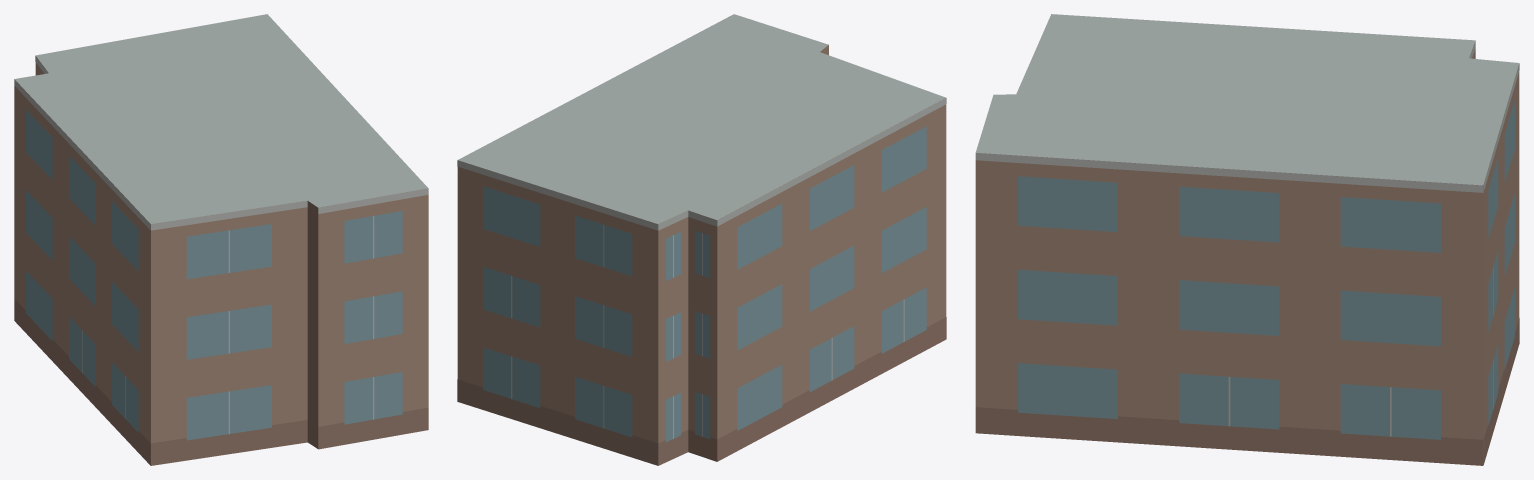
Rendered from survey-upis-32682928.glb.
3 views of the same model, side by side, from view 1: azimuth 30°, elevation 25°; view 2: azimuth 150°, elevation 25°; view 3: azimuth 270°, elevation 25° (orthographic). The views are drawn at different scales.
Visible parts, largest first — view 1: survey-upis-32682928.tmp; view 2: survey-upis-32682928.tmp; view 3: survey-upis-32682928.tmp.
Part boxes in pixels (x1=…): survey-upis-32682928.tmp: x1=14, y1=14, x2=428, y2=465; survey-upis-32682928.tmp: x1=457, y1=14, x2=946, y2=465; survey-upis-32682928.tmp: x1=975, y1=14, x2=1519, y2=465.
Bounding box in the file's own units: 12.01 × 9.15 × 16.09.
